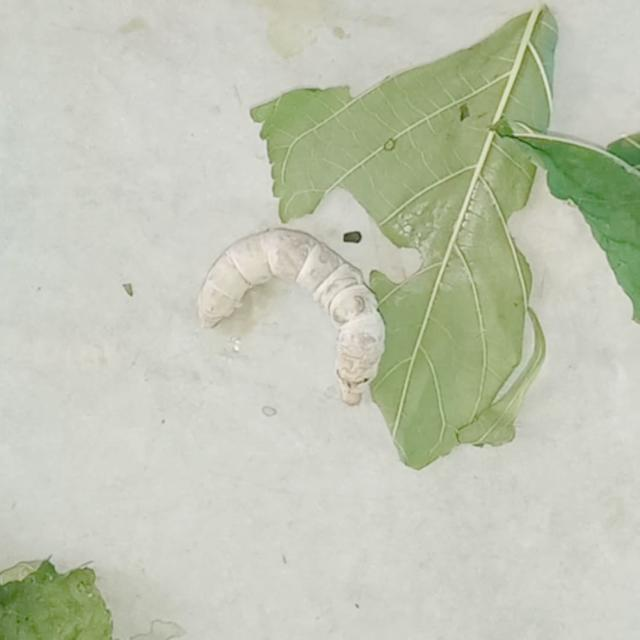Grasserie: (191, 213, 387, 408)
